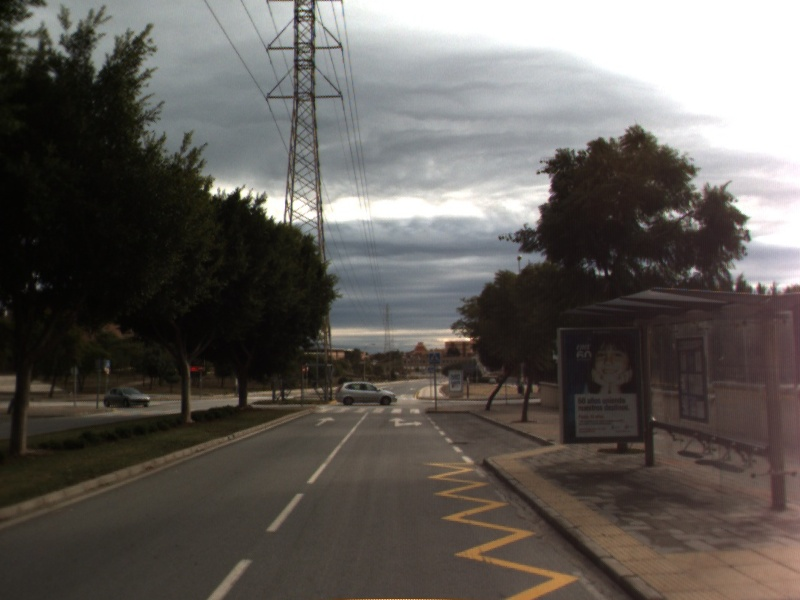STRAIGHT: (313, 415, 337, 428)
STRAIGHT_RIGHT: (387, 415, 425, 429)
